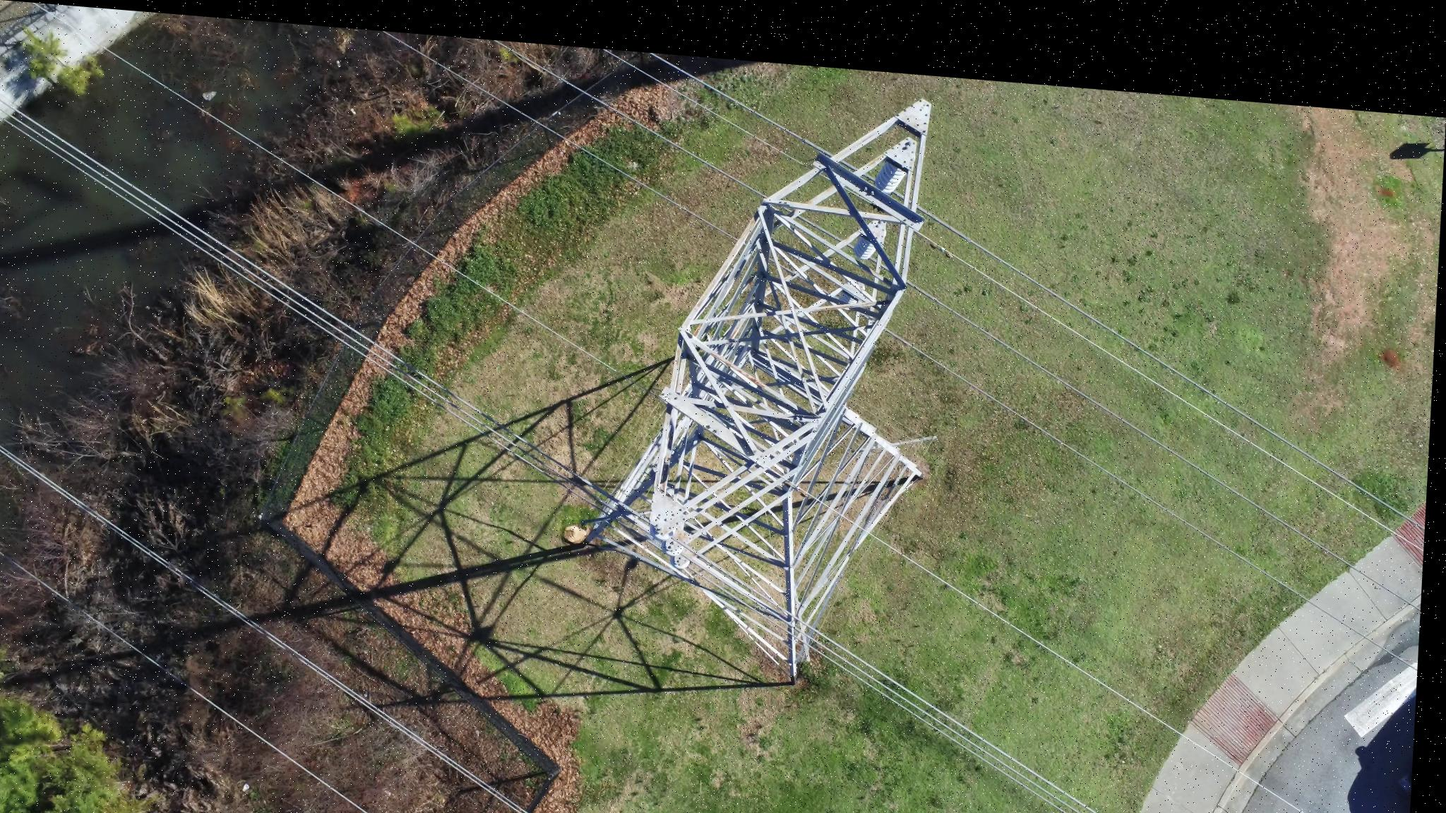tower: (560, 72, 940, 689)
